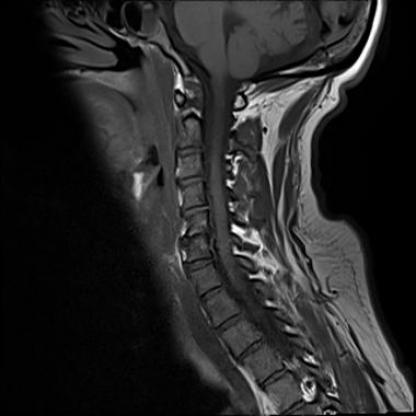Degenerative Disc Diseaserotation: (181, 230, 212, 245)
Disc Bulgerotation: (182, 255, 218, 274)
Disc Protrusionrotation: (181, 230, 212, 245), (180, 204, 210, 218)
